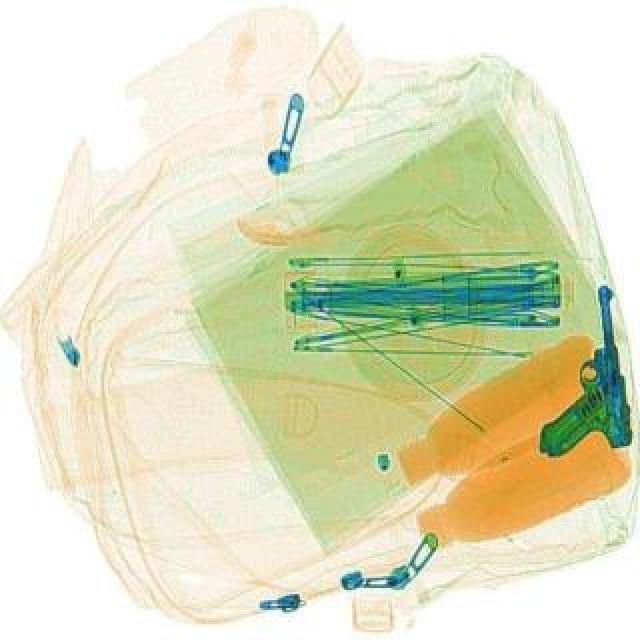gun: (518, 280, 634, 456)
